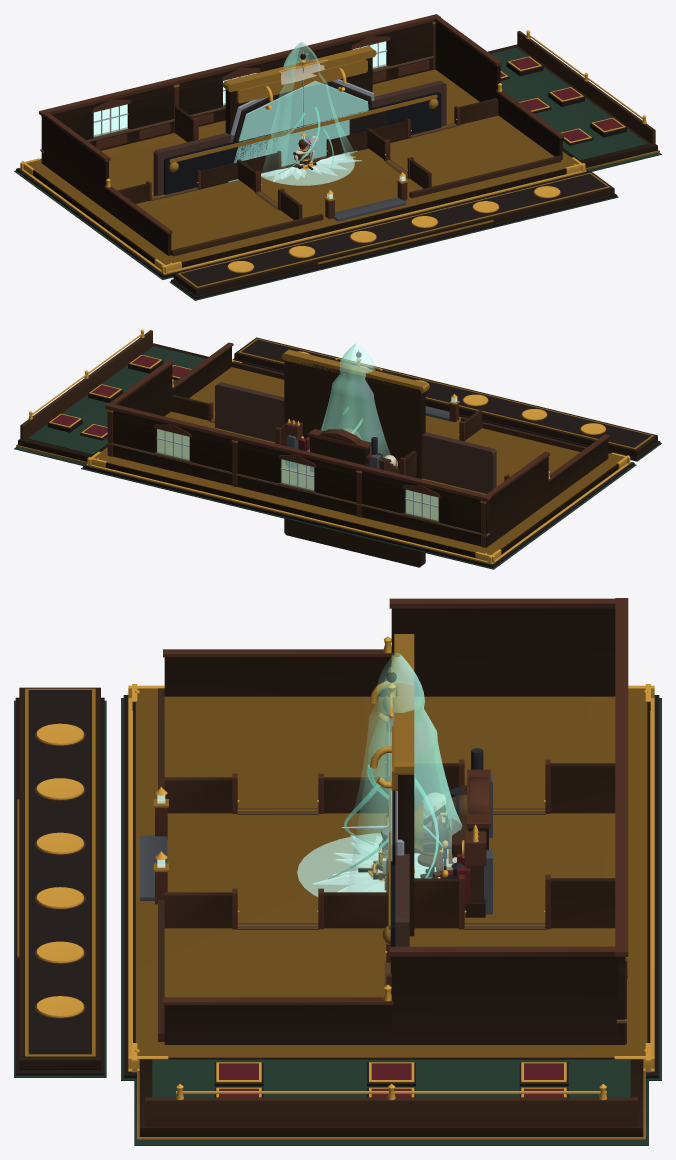
The model's file is spirit-table.glb.
The picture shows the model from 3 angles, top to bottom: view 1: azimuth 30°, elevation 25°; view 2: azimuth 150°, elevation 25°; view 3: azimuth 270°, elevation 25°; orthographic projection. The views are drawn at different scales.
Visible parts, largest first — view 1: dollhouse_chassis, clue_plate, clue_shard, clue_calendar, whisper_shroud, cold_spot_frost, mark_hatpin, clue_slip; view 2: dollhouse_chassis, clue_calendar, clue_plate, whisper_shroud, room_library, room_hall, room_cellar; view 3: dollhouse_chassis, whisper_shroud, clue_calendar, cold_spot_frost, room_hall, clue_plate, room_library, room_cellar, room_study, clue_shard.
Part boxes in pixels (<box>): dollhouse_chassis: <box>14,14,661,300</box>; clue_plate: <box>153,80,446,197</box>; clue_shard: <box>228,62,374,182</box>; clue_calendar: <box>223,46,376,134</box>; whisper_shroud: <box>262,42,353,174</box>; cold_spot_frost: <box>261,150,361,185</box>; mark_hatpin: <box>278,51,327,132</box>; clue_slip: <box>303,110,387,152</box>; dollhouse_chassis: <box>14,329,661,569</box>; clue_calendar: <box>282,349,428,567</box>; clue_plate: <box>215,382,496,493</box>; whisper_shroud: <box>321,344,390,456</box>; room_library: <box>298,429,397,471</box>; room_hall: <box>284,419,399,473</box>; room_cellar: <box>286,435,381,468</box>; dollhouse_chassis: <box>14,598,661,1145</box>; whisper_shroud: <box>327,653,462,891</box>; clue_calendar: <box>370,634,414,936</box>; cold_spot_frost: <box>297,833,440,896</box>; room_hall: <box>414,785,486,917</box>; clue_plate: <box>382,691,409,973</box>; room_library: <box>422,769,490,910</box>; room_cellar: <box>440,774,492,914</box>; room_study: <box>416,814,467,878</box>; clue_shard: <box>390,686,404,864</box>.
Bounding box in the file's own units: 1.17 × 0.47 × 0.714.
